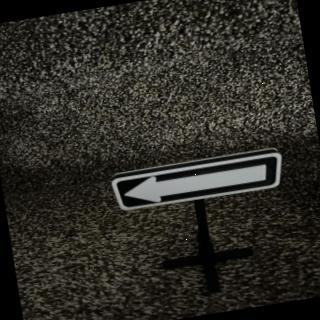sign_oneway_left: (111, 148, 289, 215)
